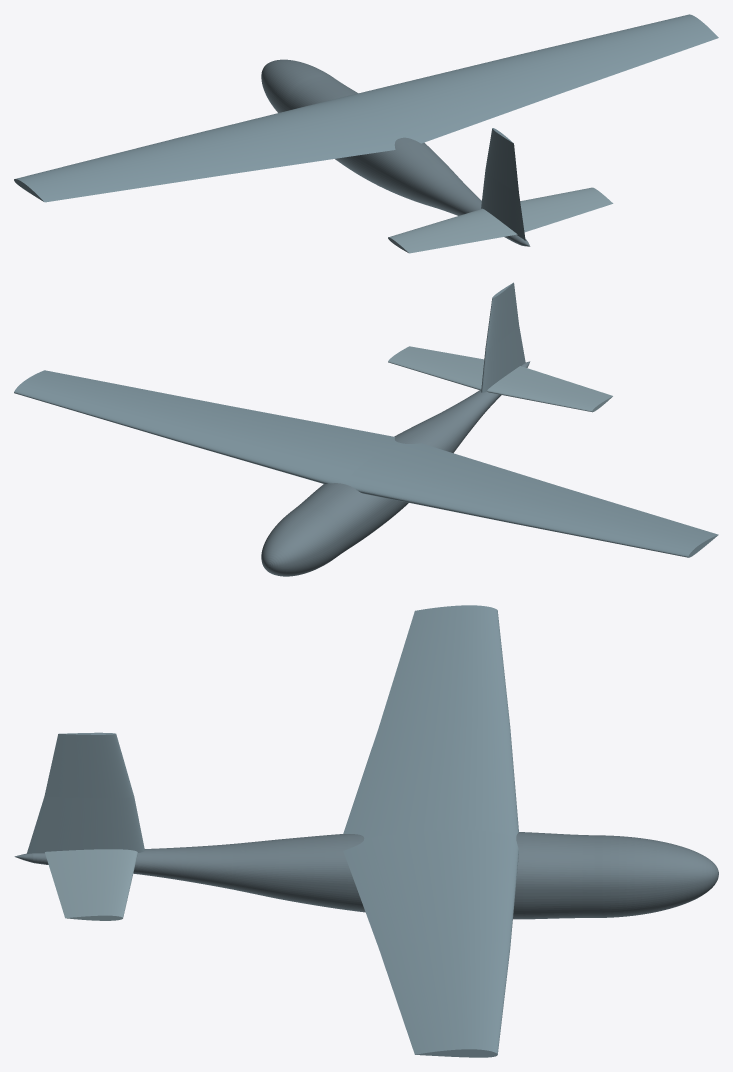
3 views of the same model, one above another, from view 1: azimuth 30°, elevation 25°; view 2: azimuth 150°, elevation 25°; view 3: azimuth 270°, elevation 25° (orthographic). The views are drawn at different scales.
Parts seen in each view (by area): view 1: Main_Wing, Fuselage, Horizontal_Tail, Vertical_Tail; view 2: Main_Wing, Fuselage, Horizontal_Tail, Vertical_Tail; view 3: Main_Wing, Fuselage, Vertical_Tail, Horizontal_Tail.
Part boxes in pixels (x1,y1,x2,y2): Main_Wing: (14,14,718,202); Fuselage: (261,59,530,246); Horizontal_Tail: (388,187,613,253); Vertical_Tail: (481,128,525,240); Main_Wing: (14,370,718,557); Fuselage: (261,361,530,576); Horizontal_Tail: (388,346,612,412); Vertical_Tail: (481,282,525,392); Main_Wing: (343,605,518,1057); Fuselage: (14,832,718,919); Vertical_Tail: (26,732,144,853); Horizontal_Tail: (45,849,137,920).
Size of the model in its own units: 3.8 by 0.717 by 2.55.
